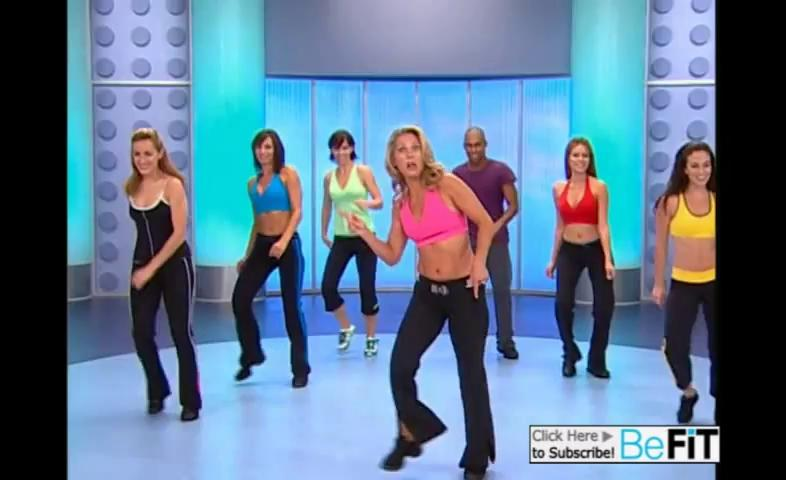victim: (348, 119, 500, 476), (111, 125, 208, 423), (226, 126, 319, 392), (436, 125, 526, 362), (648, 139, 717, 430), (548, 136, 621, 382), (312, 122, 384, 360)
